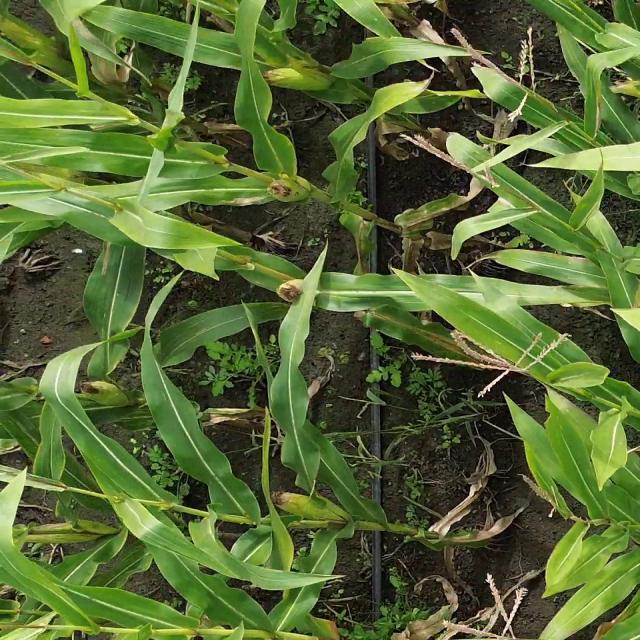northern-leaf-blight: (344, 54, 494, 134), (370, 175, 506, 254)
southern-leaf-blight: (23, 144, 148, 344)
